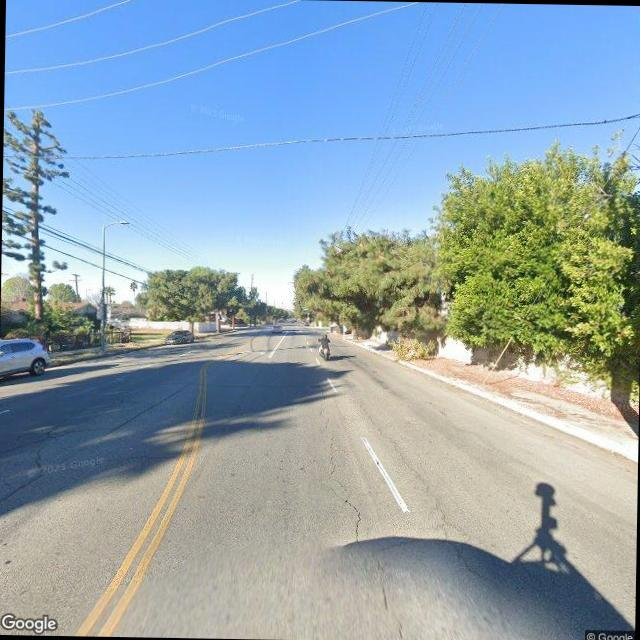crack: (312, 384, 370, 576)
